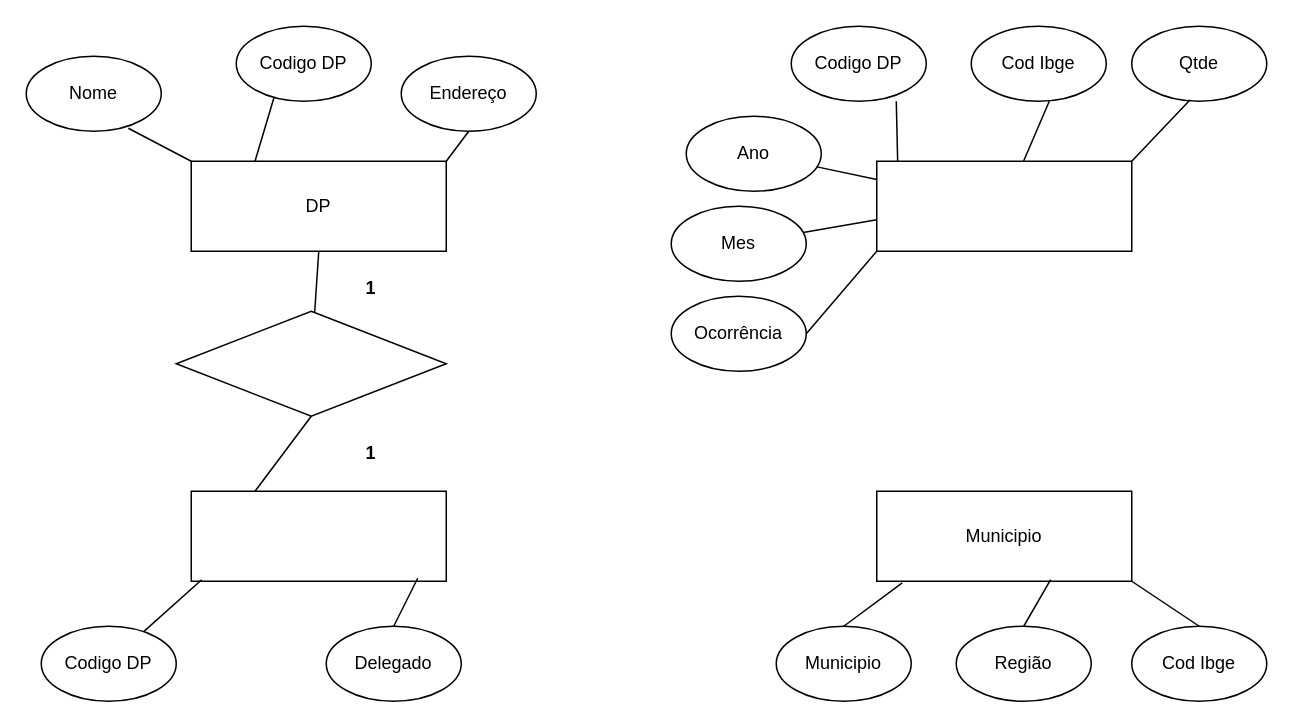
Image size: 1293x728. Some labels were removed from this diagram. Here are the shapes that lost their labels. From the top down, the box of each, then its label:
(875, 160, 1132, 251): Ocorrencia
(175, 310, 446, 416): Coordena
(190, 490, 446, 581): Responsável DP
